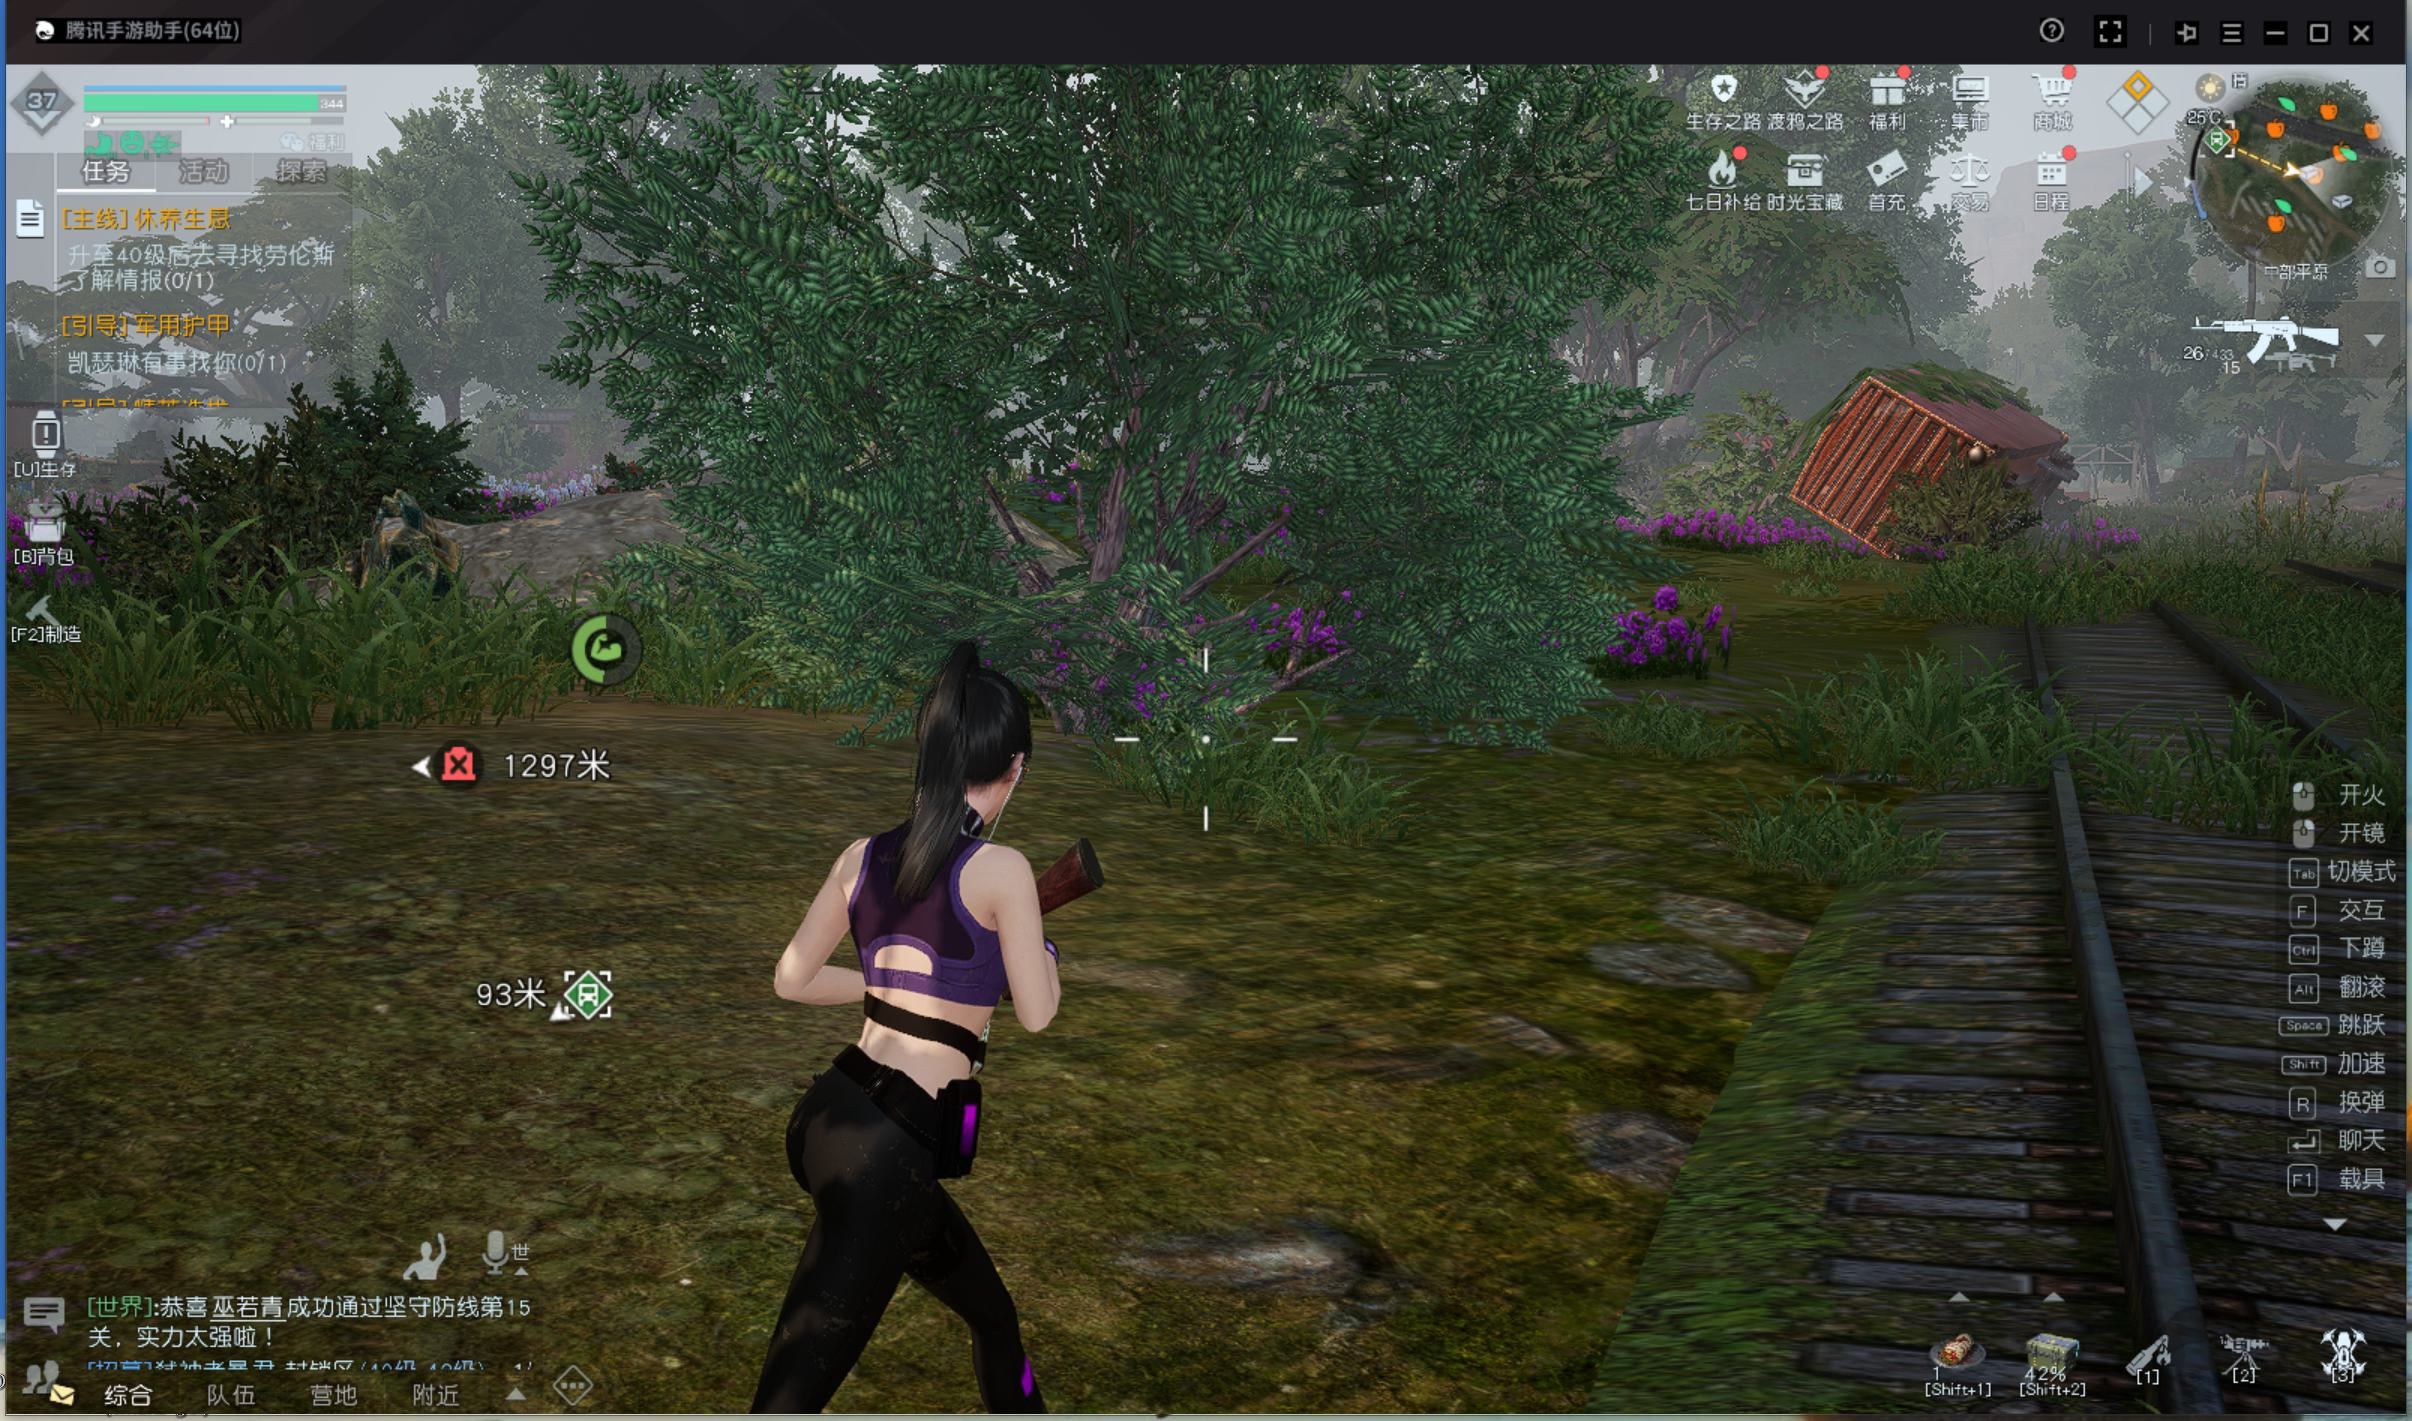stone: (320, 480, 477, 629)
